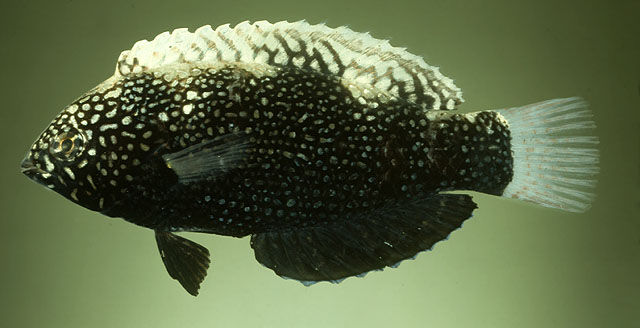fish: (20, 19, 599, 298)
